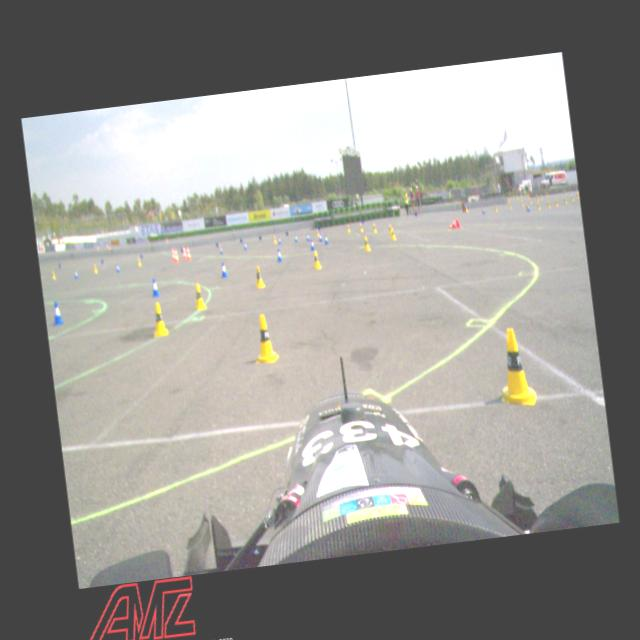blue_cone: (492, 324, 538, 411), (50, 300, 64, 326), (148, 277, 160, 297), (218, 262, 228, 278), (274, 248, 282, 262), (308, 238, 315, 250), (322, 233, 329, 244), (72, 268, 78, 280), (114, 262, 120, 273), (242, 241, 248, 250), (305, 232, 310, 242), (318, 232, 323, 242), (218, 245, 223, 254), (277, 236, 282, 244), (294, 233, 298, 243)
large_orange_cone: (184, 244, 192, 262), (172, 248, 180, 262), (180, 244, 186, 258), (170, 248, 176, 260)
orange_cone: (446, 216, 460, 230)
yellow_cone: (249, 312, 280, 366), (148, 300, 169, 338), (190, 282, 207, 310), (252, 264, 266, 289), (310, 250, 322, 270), (362, 234, 372, 253), (388, 226, 397, 242), (92, 262, 98, 276), (50, 268, 56, 280), (136, 257, 142, 267), (217, 242, 222, 252), (358, 222, 363, 232), (388, 223, 392, 235), (272, 235, 277, 244), (315, 228, 320, 236), (372, 222, 376, 232), (346, 224, 350, 232)
